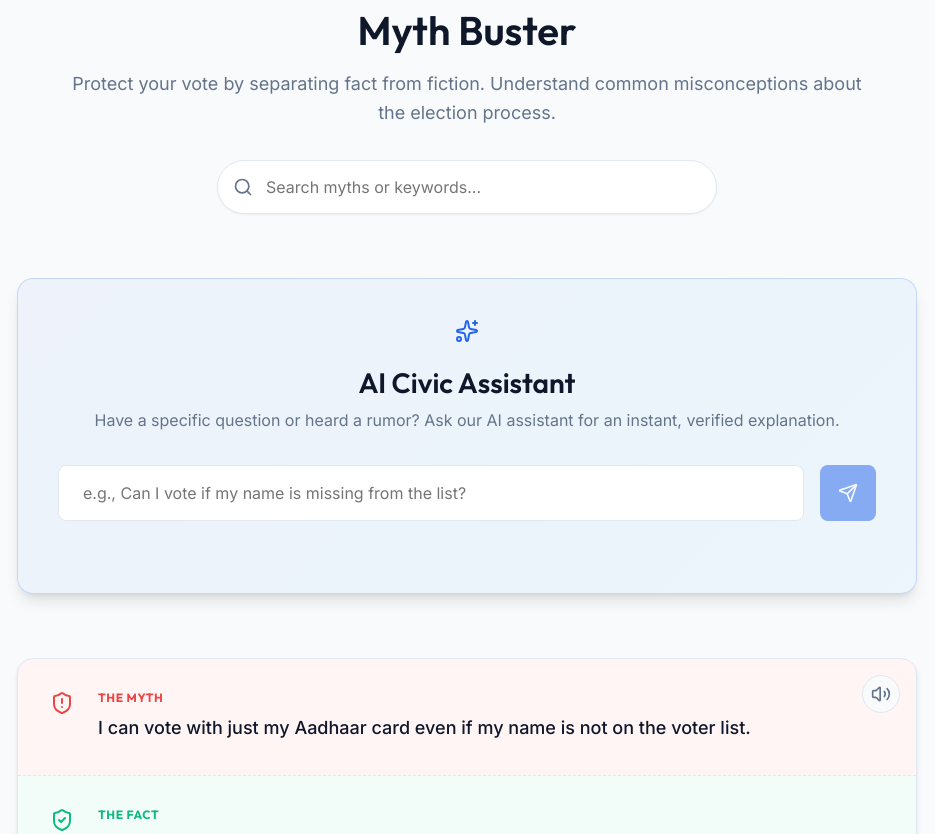
Test case: Myths Page › handles AI Assistant submission
The width and height of the screenshot is (935, 834).
Type "How to vote?" into the field with placeholder "e.g., Can I vote if my name is missing from the list?" at (431, 493), box [58,465,804,521]
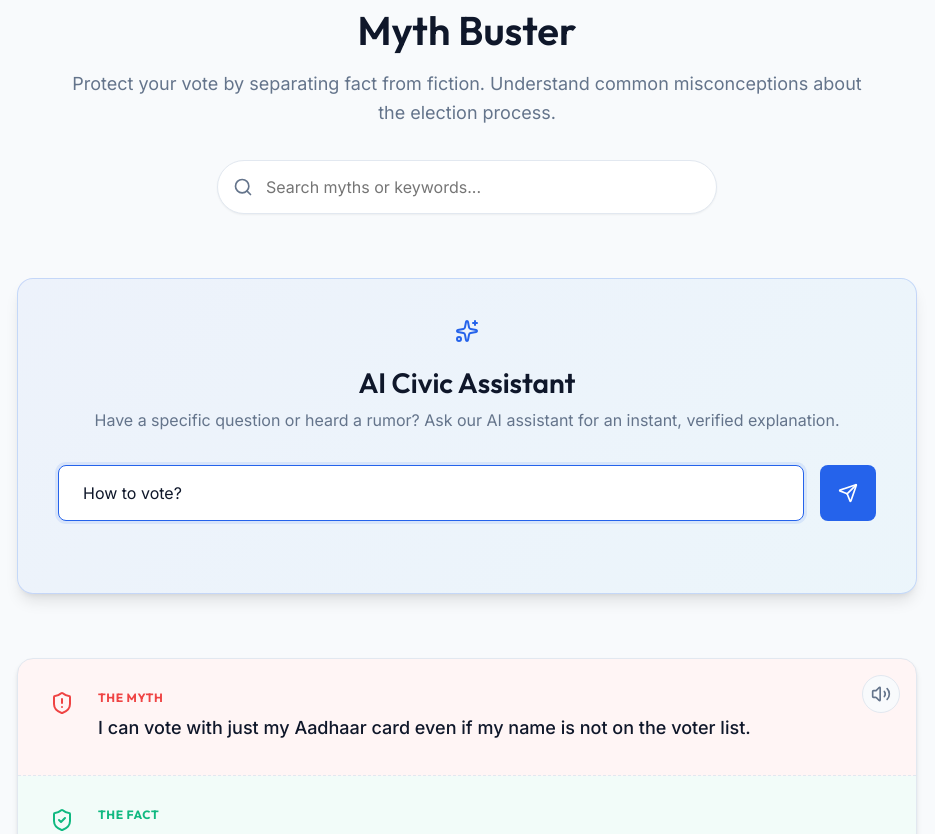
Click the 1st button at (848, 493), box [820,465,876,521]
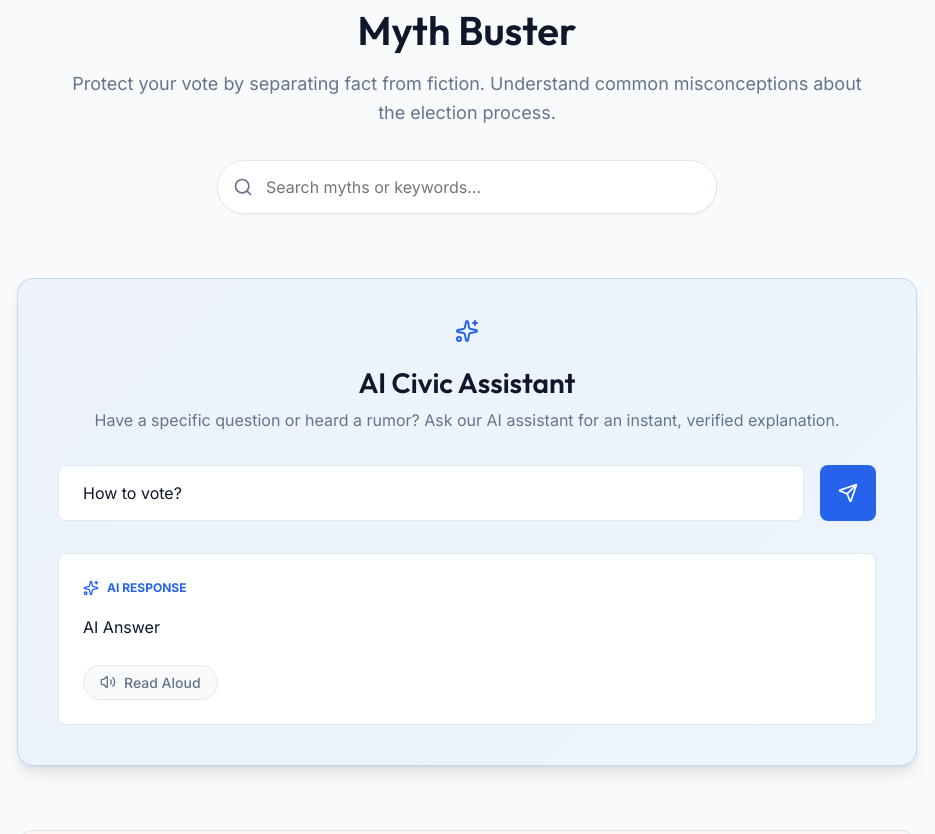
Expected: the text "AI Answer" is shown, [83,617,160,637]
